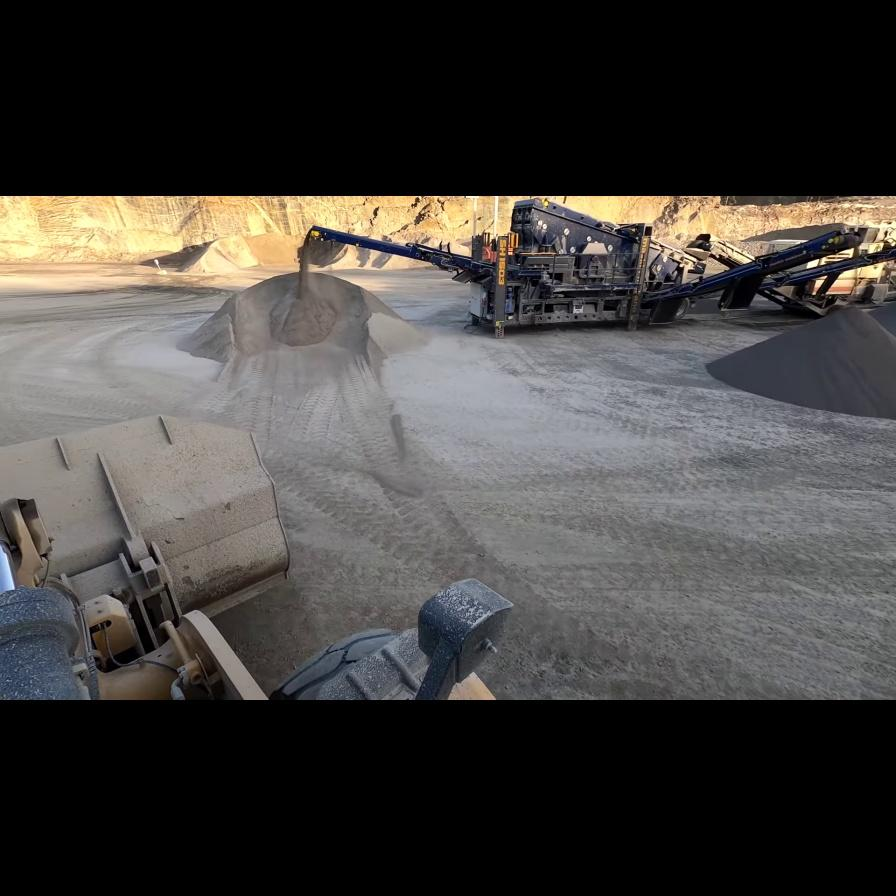pile of gravel: (696, 306, 896, 420), (173, 268, 424, 356), (139, 231, 328, 273), (308, 235, 432, 270)
